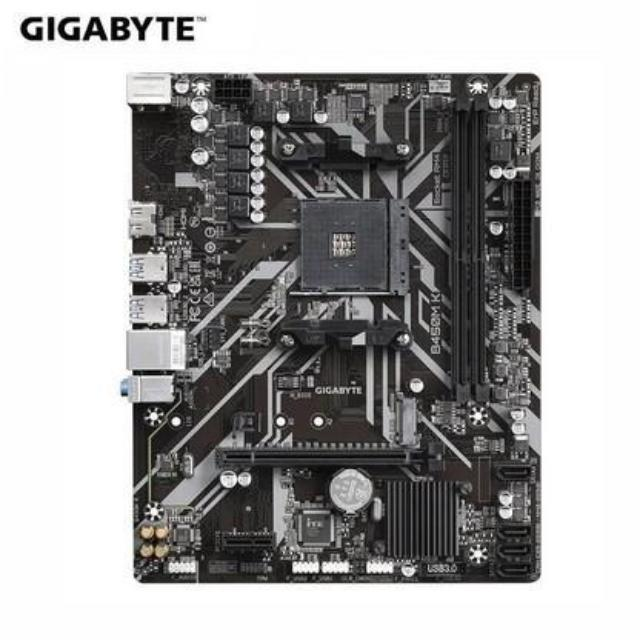Mainboard: (120, 63, 548, 592)
